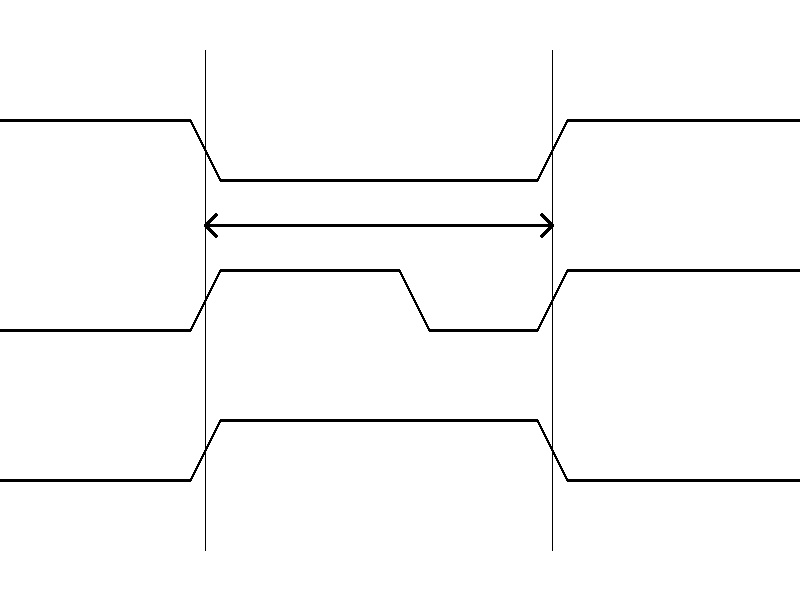double_arrow: (205, 210, 552, 240)
